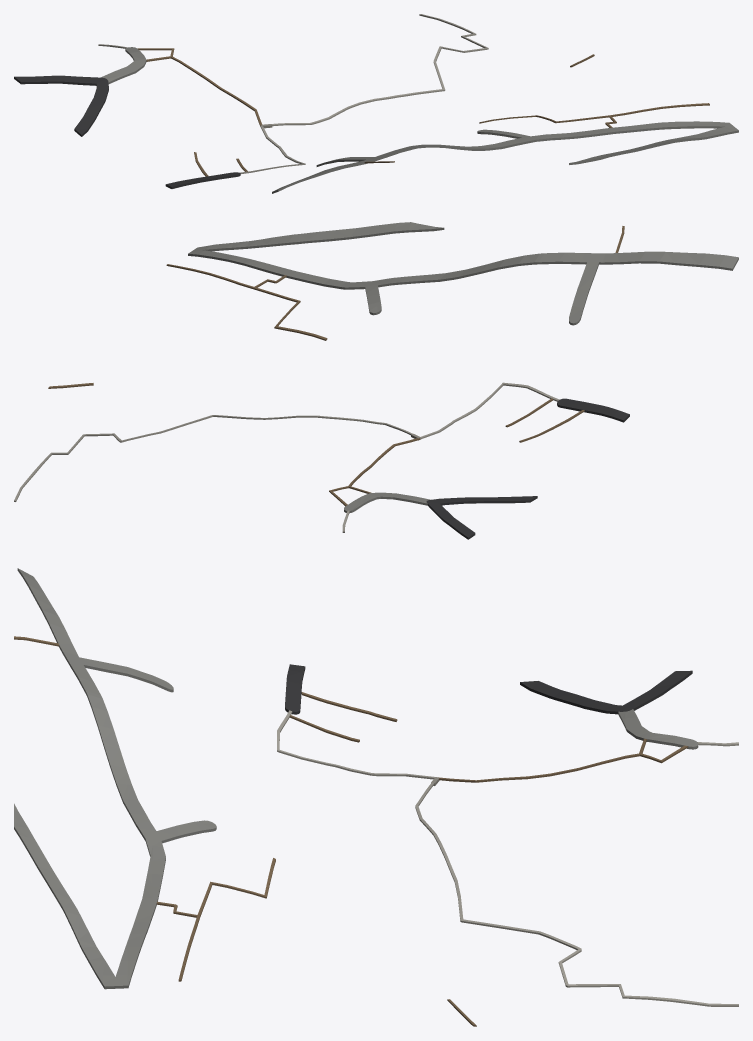
3 views of the same model, one above another, from view 1: azimuth 30°, elevation 25°; view 2: azimuth 150°, elevation 25°; view 3: azimuth 270°, elevation 25° (orthographic). The views are drawn at different scales.
Size of the model in its own units: 293 by 78.03 by 291.
